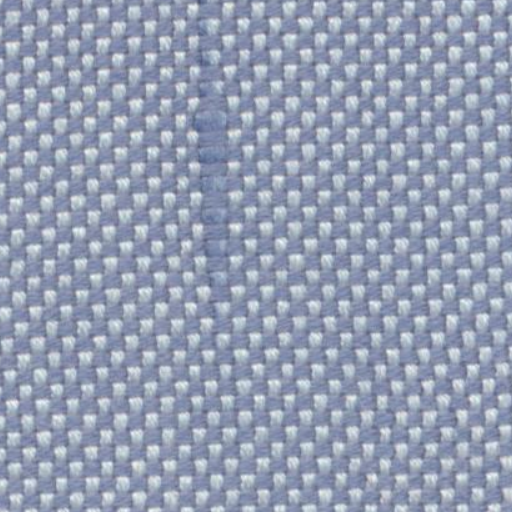DaiSha: (184, 10, 256, 374)
